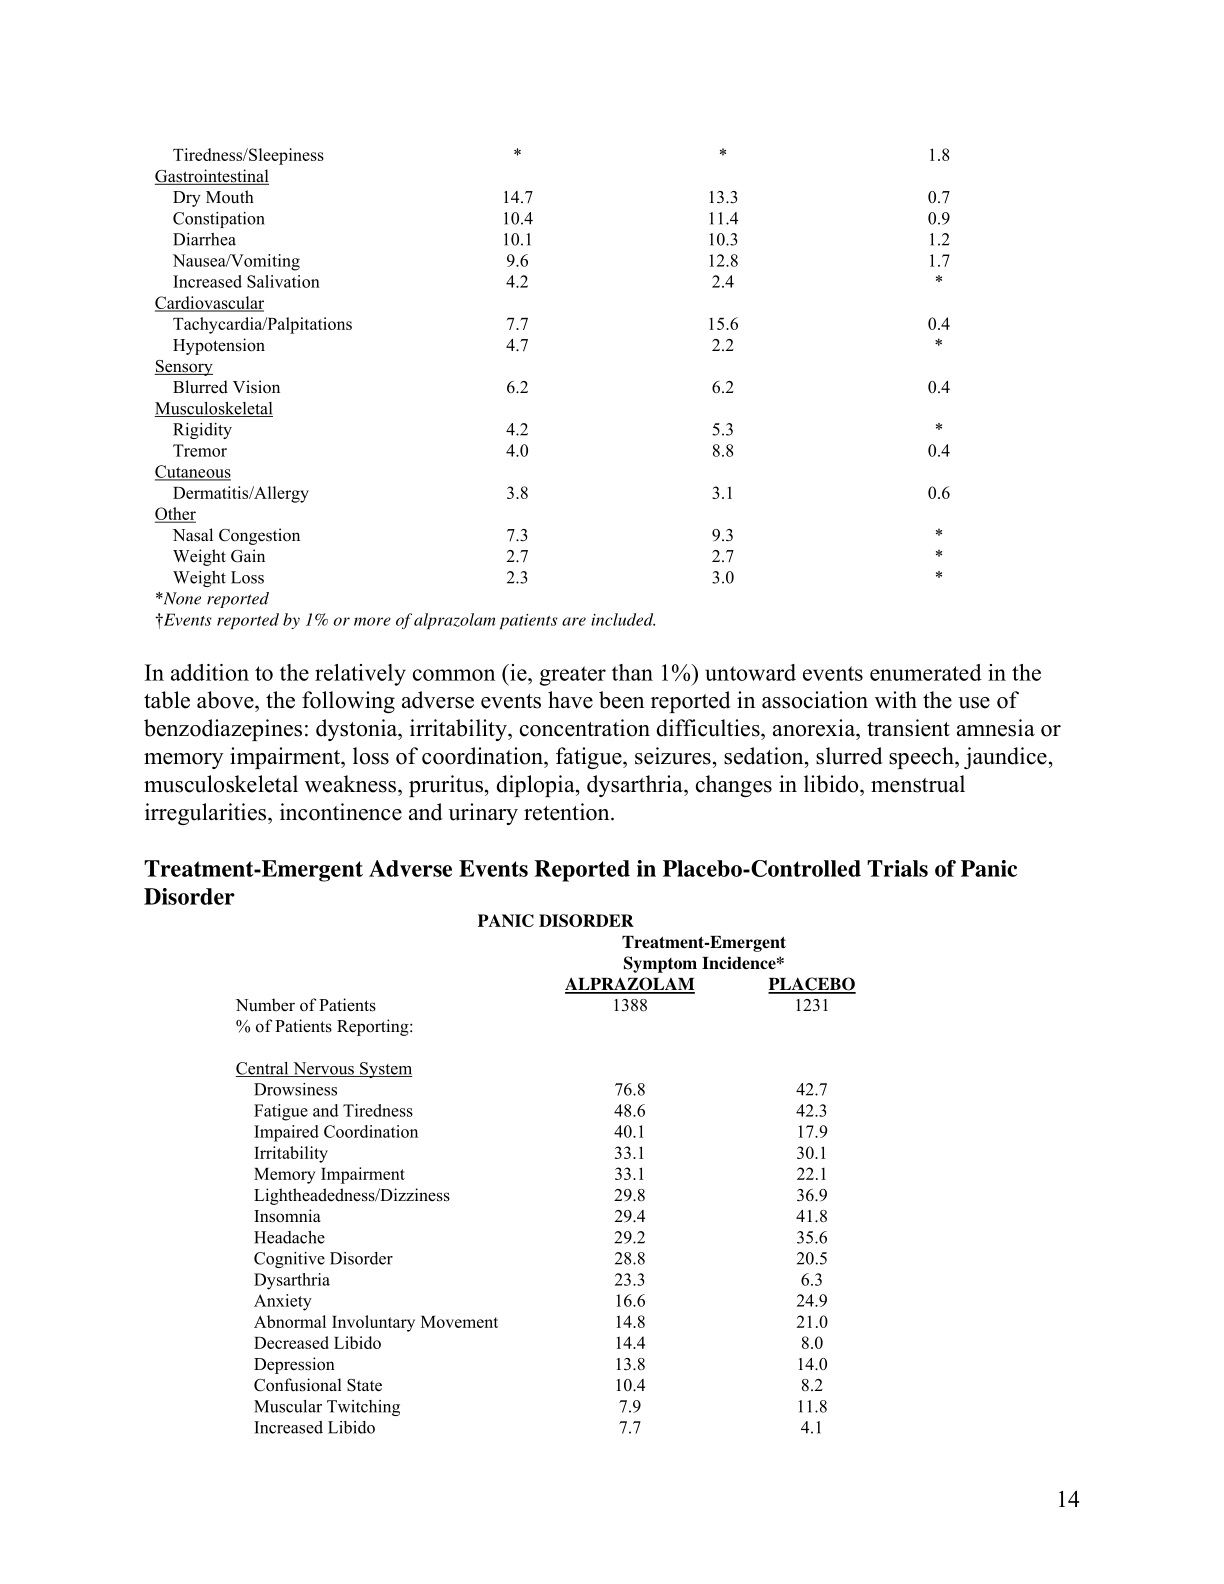nolines: (149, 141, 957, 588), (231, 933, 858, 1439)
